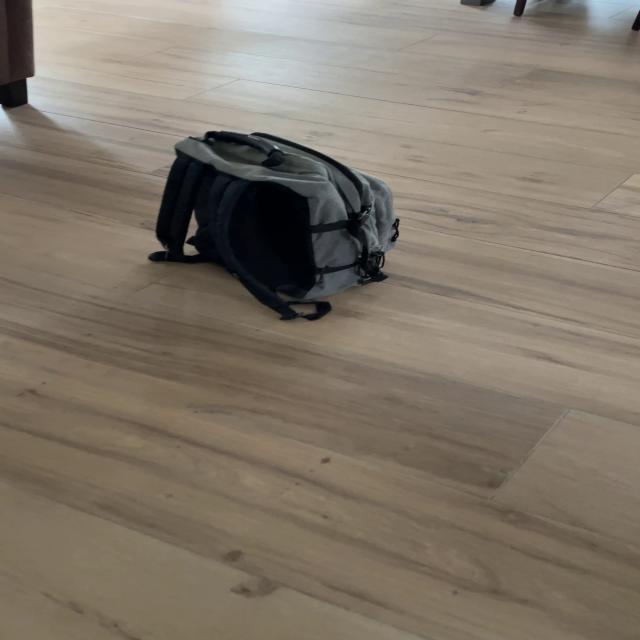backpack: (143, 120, 415, 326)
